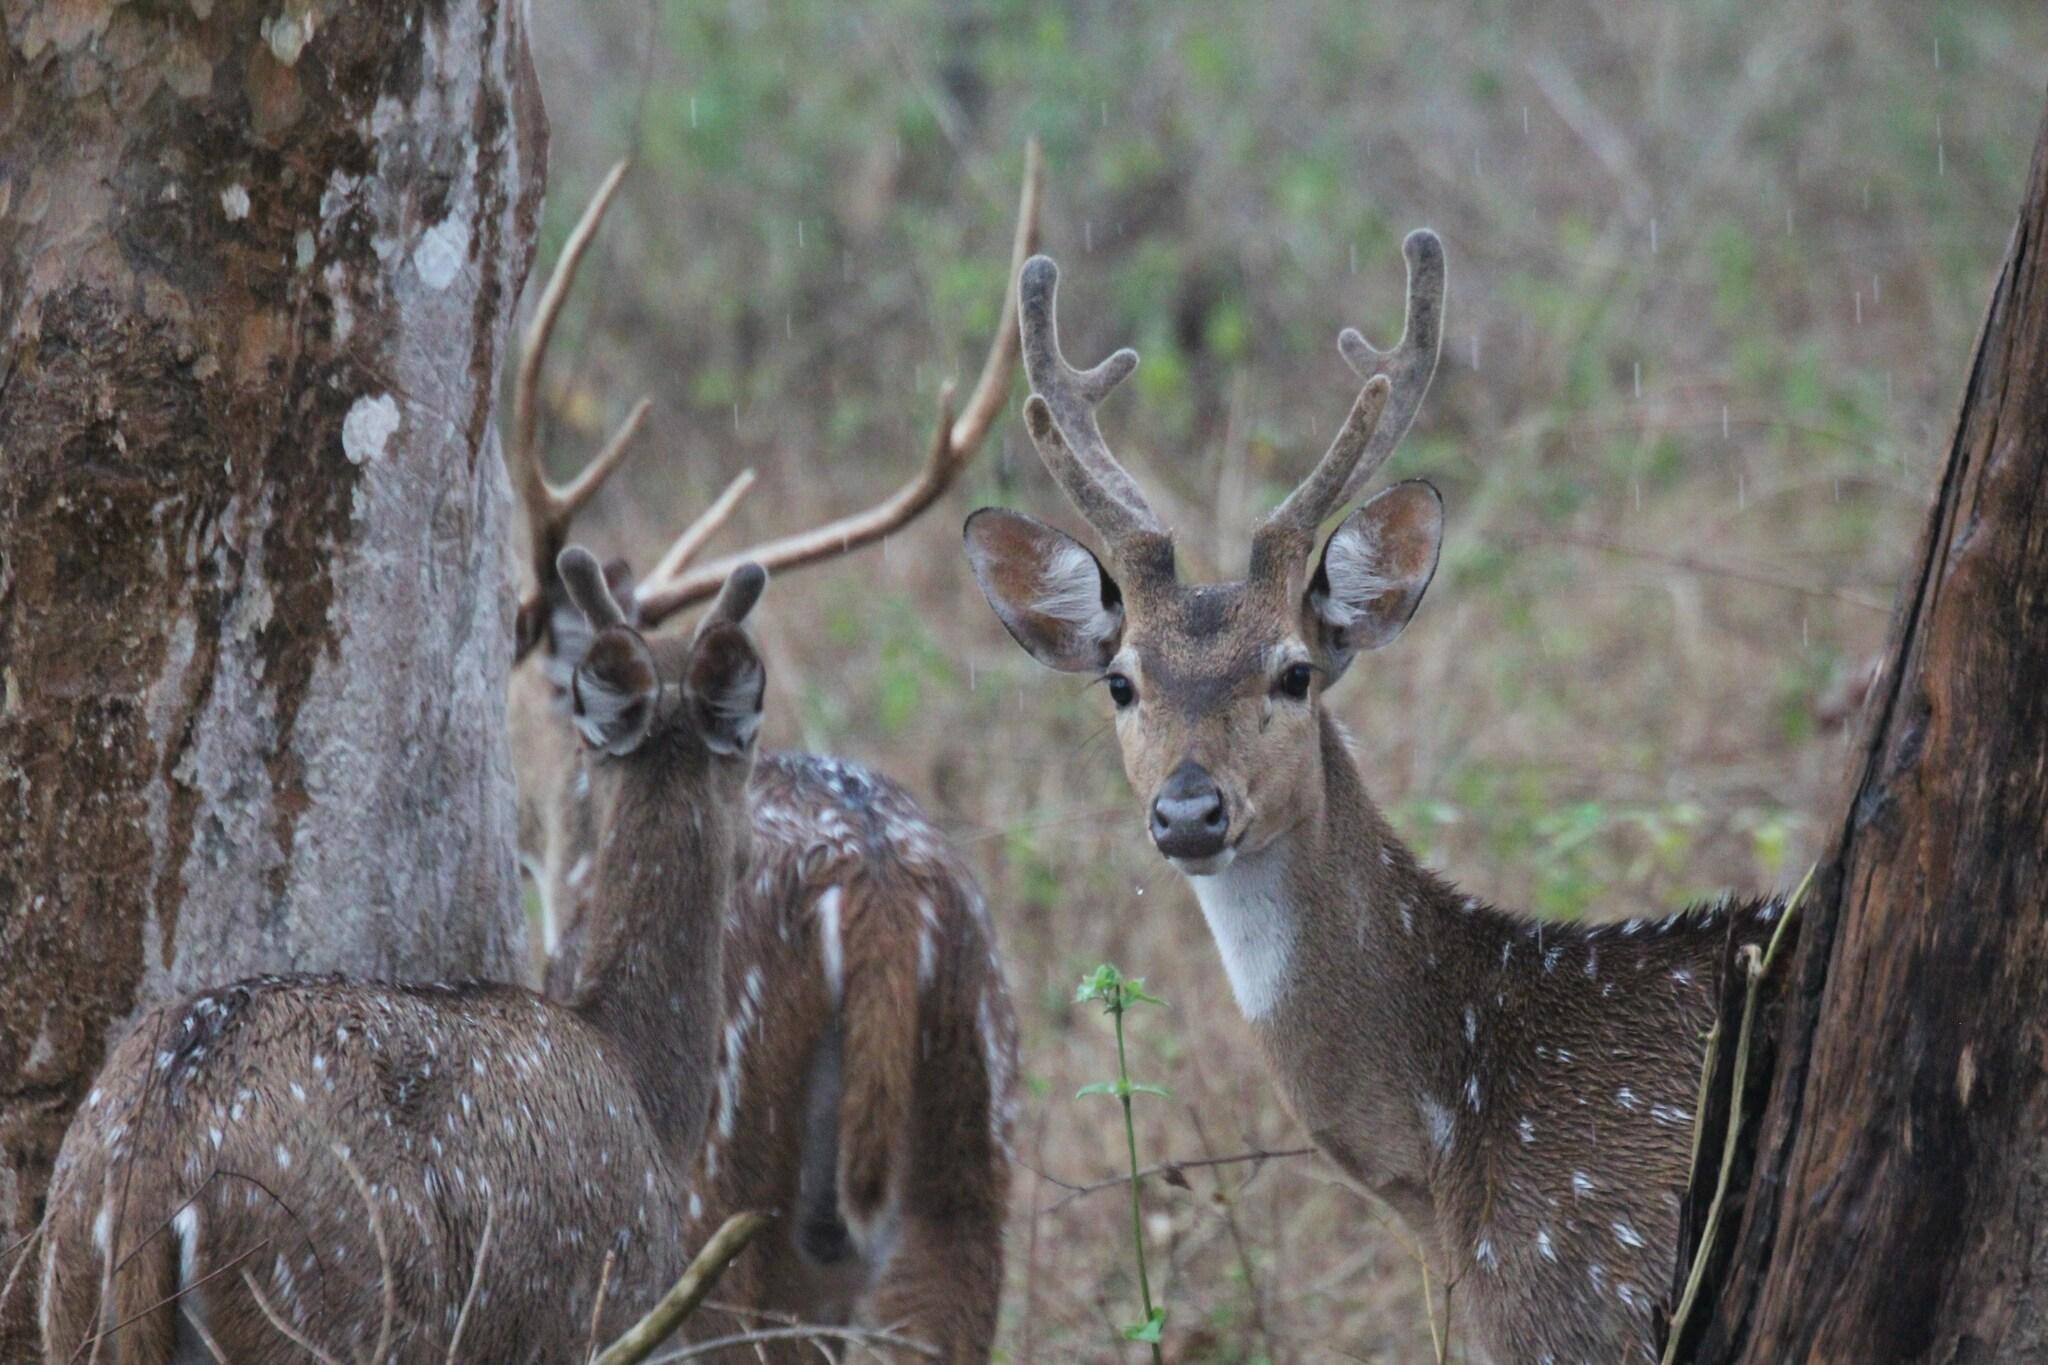Deer: (964, 230, 1733, 1361), (32, 548, 765, 1364), (690, 749, 1018, 1364)
